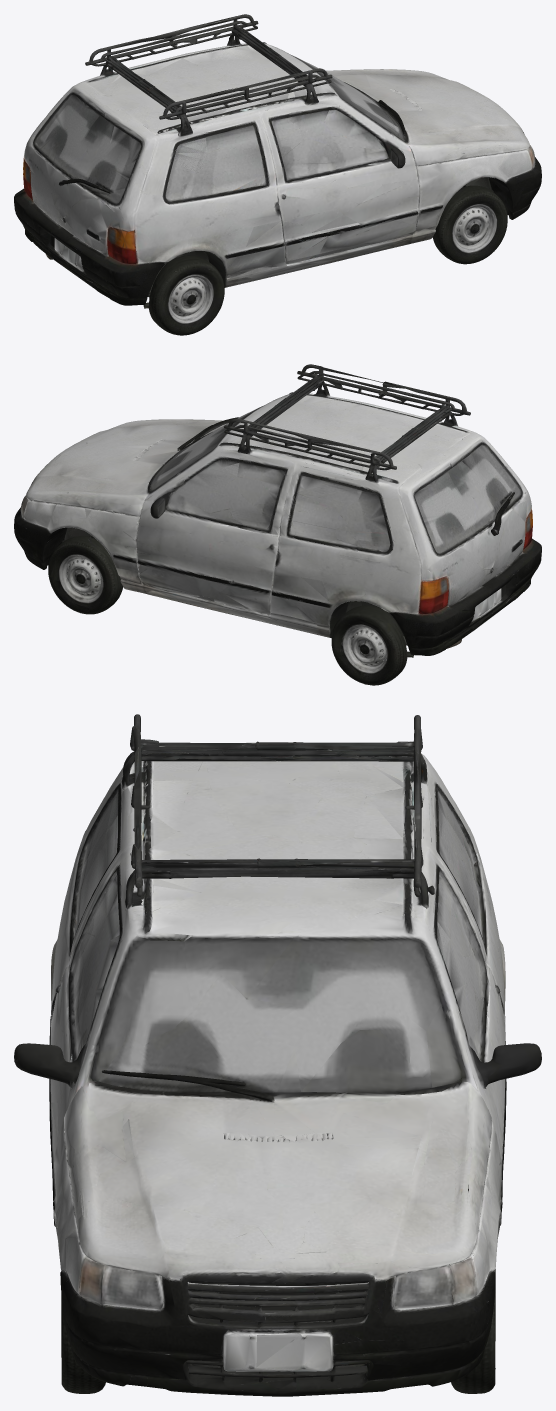
The model's file is furgaozinho-da-firma__01a1697e.glb.
3 views of the same model, one above another, from view 1: azimuth 30°, elevation 25°; view 2: azimuth 150°, elevation 25°; view 3: azimuth 270°, elevation 25° (orthographic). The views are drawn at different scales.
Visible parts, largest first — view 1: base; view 2: base; view 3: base.
Part boxes in pixels (x1,y1,x2,y2): base: [14, 14, 541, 335]; base: [14, 364, 541, 685]; base: [14, 714, 541, 1396].
Size of the model in its own units: 3.69 by 1.7 by 1.98.
Materials: 1 (1 with a texture image).
